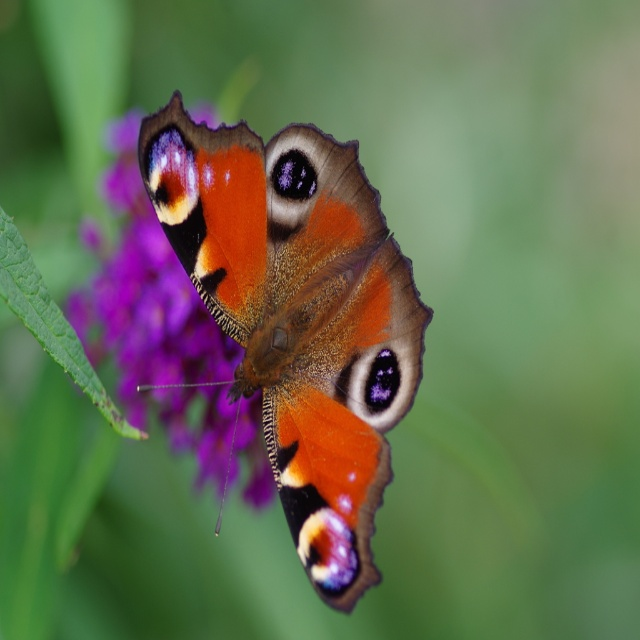Butterfly: (134, 85, 431, 640)
